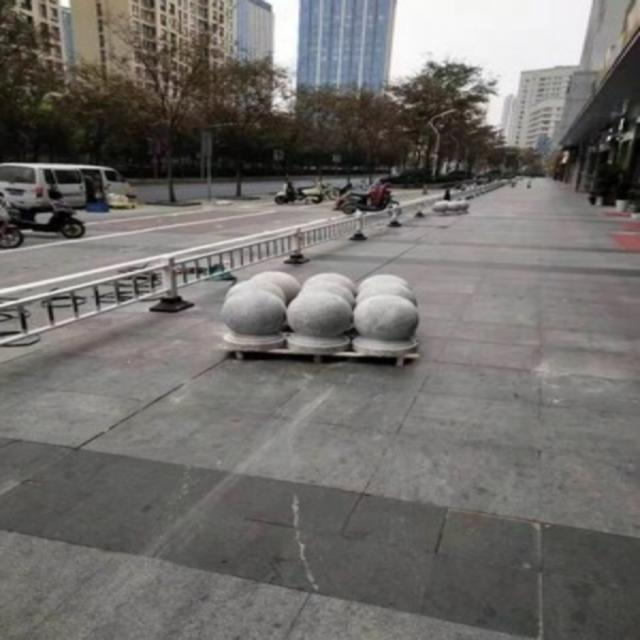car: (0, 160, 130, 210)
spherical_roadblock: (346, 293, 418, 357), (215, 288, 288, 349), (284, 290, 352, 352)
